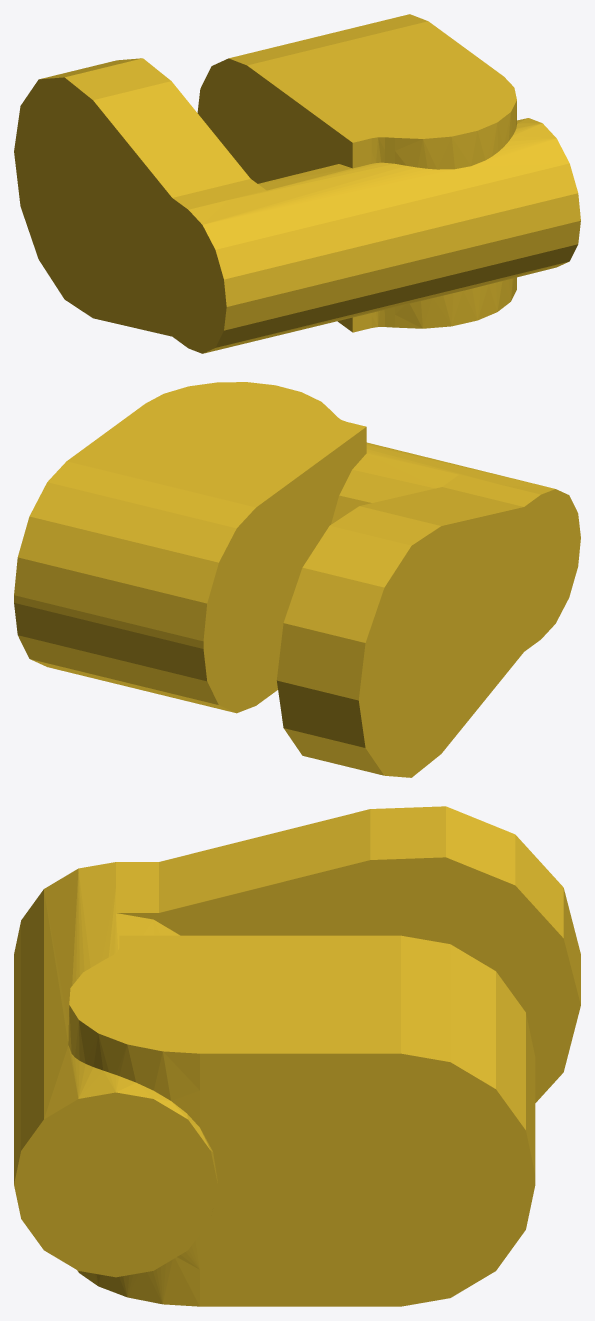
The model's file is LLEG_LINK4_mesh.dae.
3 renders of one model, top to bottom at view 1: azimuth 30°, elevation 25°; view 2: azimuth 150°, elevation 25°; view 3: azimuth 270°, elevation 25°, orthographic. The views are drawn at different scales.
Parts seen in each view (by area): view 1: LLEG_LINK4; view 2: LLEG_LINK4; view 3: LLEG_LINK4.
Boxes of the visible parts, bbox=[...] form: LLEG_LINK4: bbox=[14, 14, 580, 353]; LLEG_LINK4: bbox=[14, 382, 580, 777]; LLEG_LINK4: bbox=[14, 806, 580, 1306].
Size of the model in its own units: 0.1016 by 0.0609 by 0.1056.
